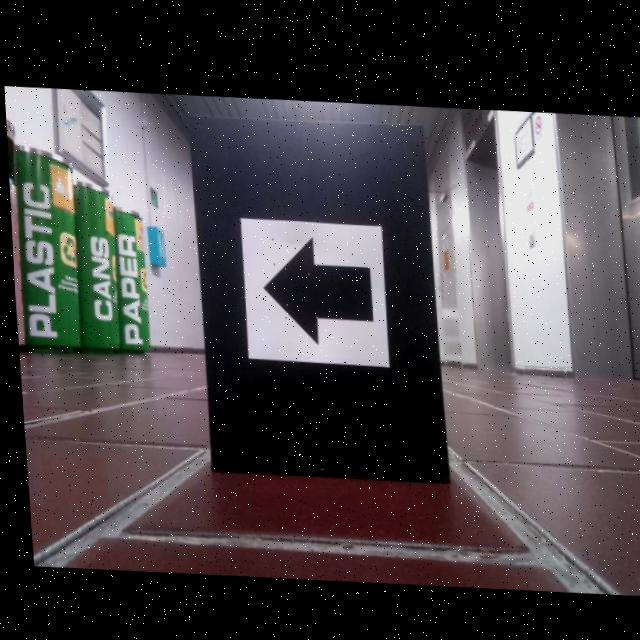LEFT: (259, 231, 370, 342)
